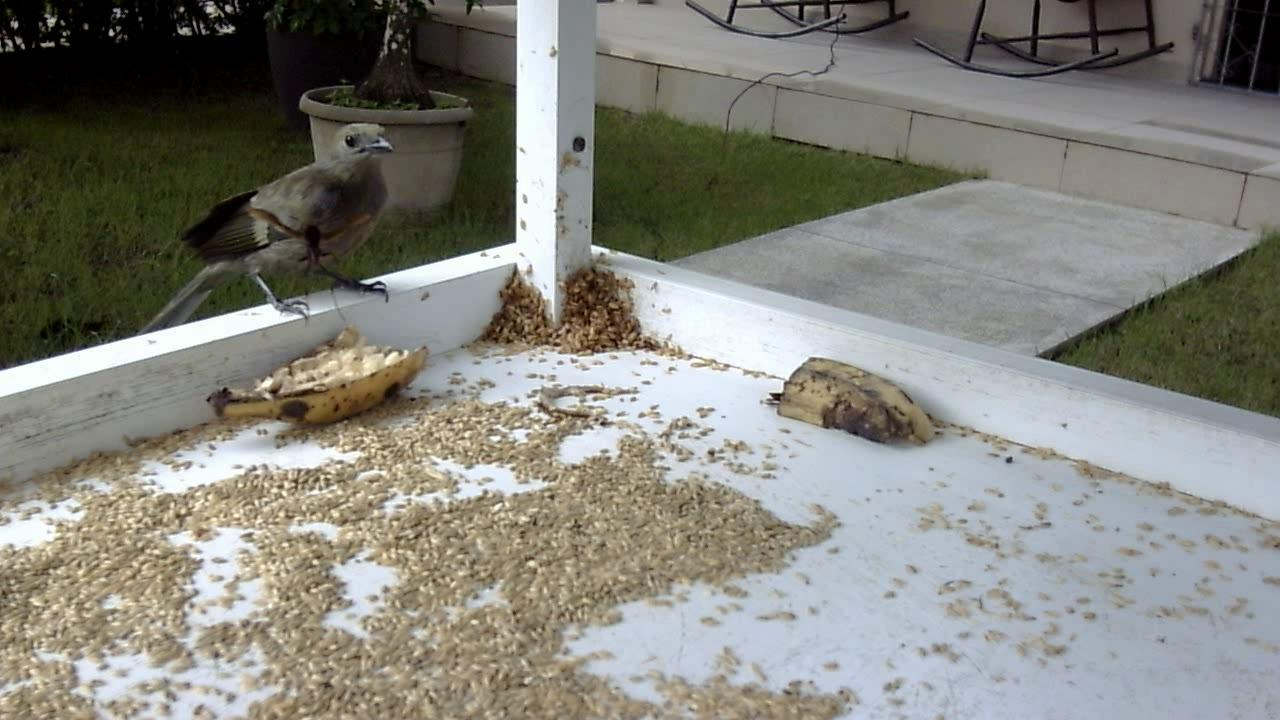sanhaco_do_coqueiro: (140, 122, 406, 337)
